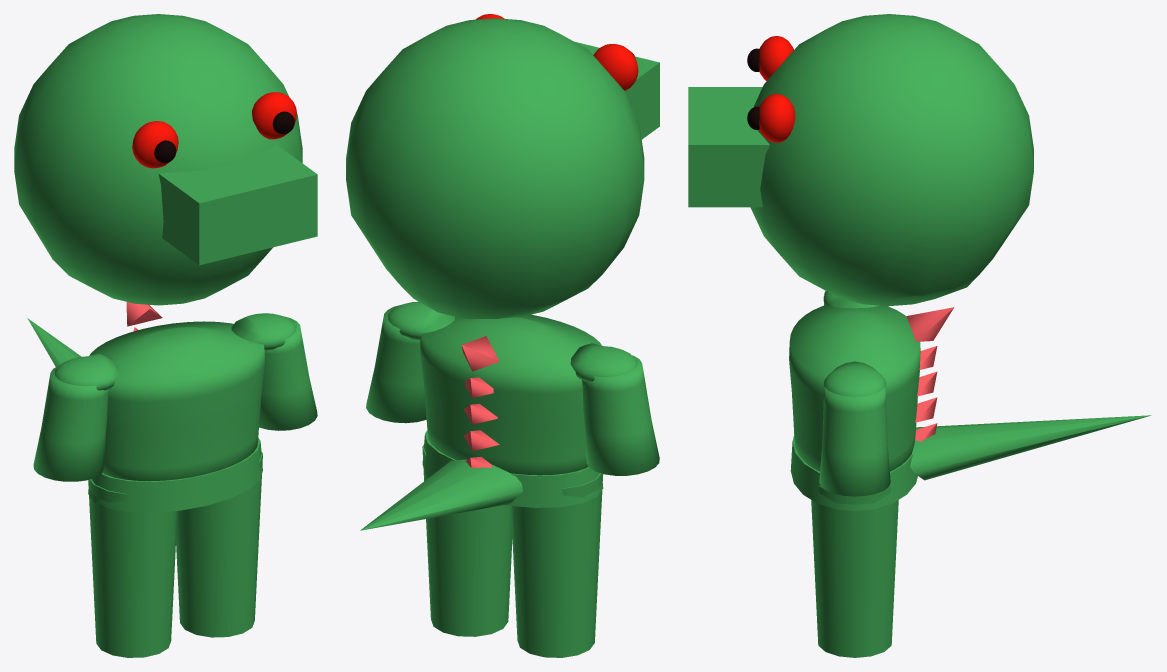
File: suit_fun_0.glb
The picture shows the model from 3 angles, left to right: view 1: azimuth 30°, elevation 25°; view 2: azimuth 150°, elevation 25°; view 3: azimuth 270°, elevation 25°; orthographic projection. The views are drawn at different scales.
Size of the model in its own units: 0.6992 by 1.44 by 1.02.
